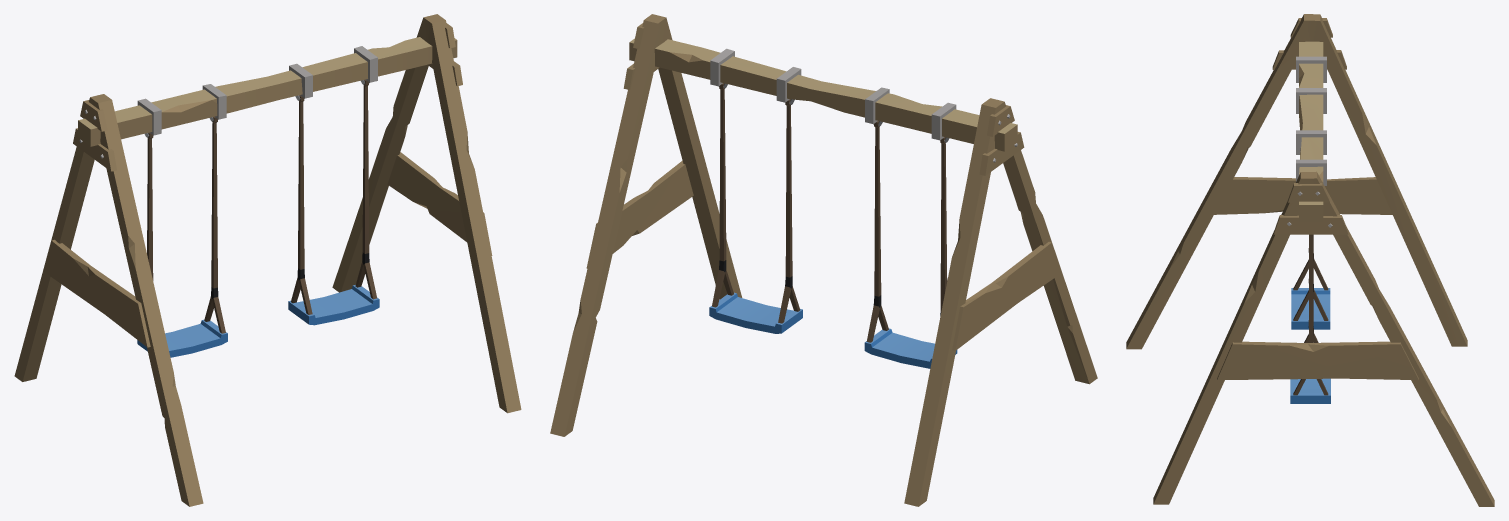
The model's file is SM_Prop_Playground_Swing_01.obj.
3 views of the same model, side by side, from view 1: azimuth 30°, elevation 25°; view 2: azimuth 150°, elevation 25°; view 3: azimuth 270°, elevation 25° (orthographic). The views are drawn at different scales.
Visible parts, largest first — view 1: SM_Prop_Playground_Swing_01_0; view 2: SM_Prop_Playground_Swing_01_0; view 3: SM_Prop_Playground_Swing_01_0.
Part boxes in pixels (x1=…): SM_Prop_Playground_Swing_01_0: x1=14, y1=14, x2=521, y2=506; SM_Prop_Playground_Swing_01_0: x1=550, y1=14, x2=1097, y2=506; SM_Prop_Playground_Swing_01_0: x1=1126, y1=14, x2=1494, y2=506.
Size of the model in its own units: 3.14 by 2.76 by 2.8.
1 material, 1 textured.
